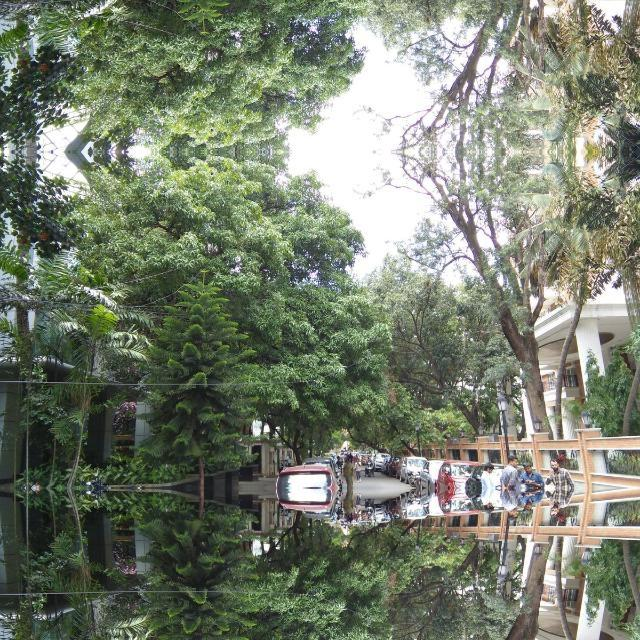obstacle: (418, 182, 600, 434), (418, 0, 599, 121), (418, 542, 599, 640)
